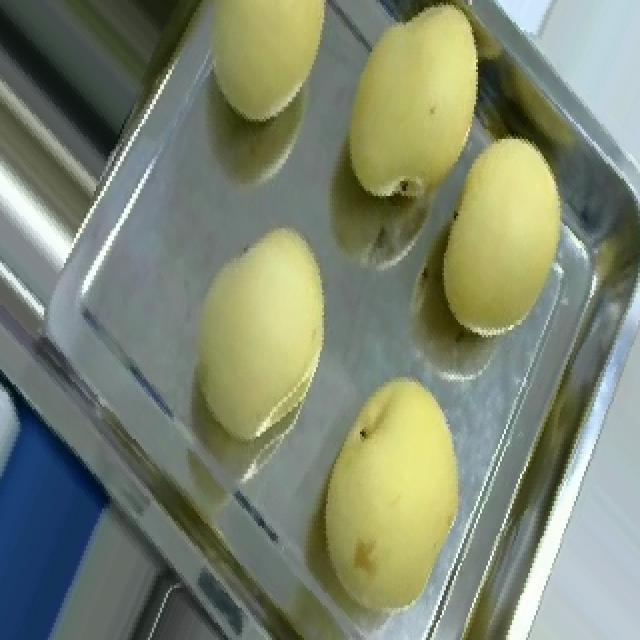Fruit: (284, 357, 490, 640), (162, 206, 348, 459), (326, 0, 510, 223), (414, 117, 588, 352), (174, 0, 350, 141)
